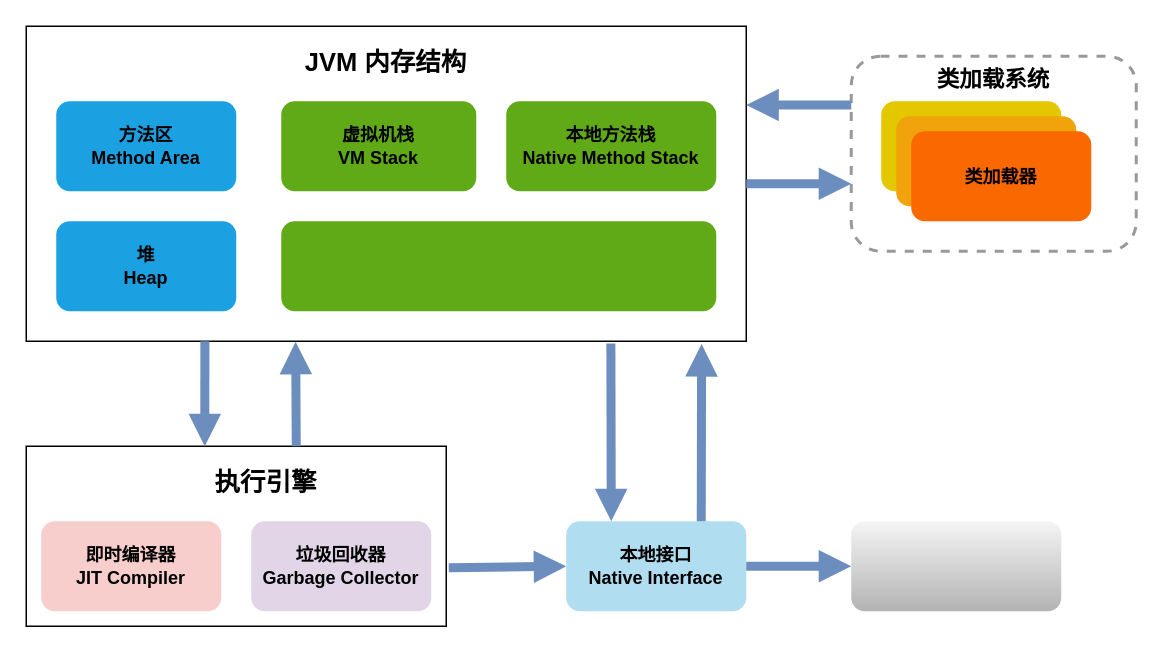
The diagram is 1164 pixels wide and 653 high, and some of its shapes have lost their labels. Here are the shapes that lost their labels. From the top down, the box of each, then its label:
(280, 220, 716, 310): 程序计数器 Program Counter Register
(850, 520, 1060, 610): 本地方法库 Native Method Library
